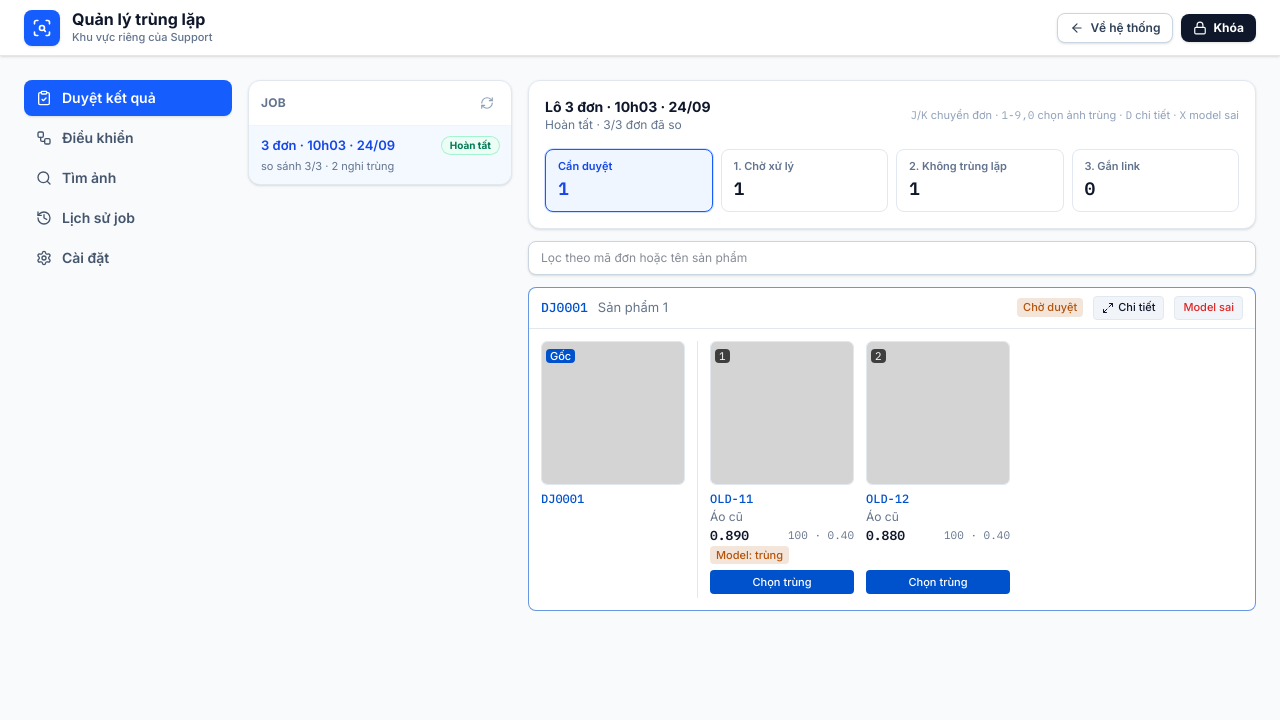
duplicate review page › counts the three groups and switches tabs
Expected: the element with test id "order-DJ0001" is shown, [528,286,1256,611]
Expected: the tab "Cần duyệt 1" is shown, [545,149,712,212]
Step 1. Click the tab "1. Chờ xử lý 1" → (804, 180), box [720,149,888,212]
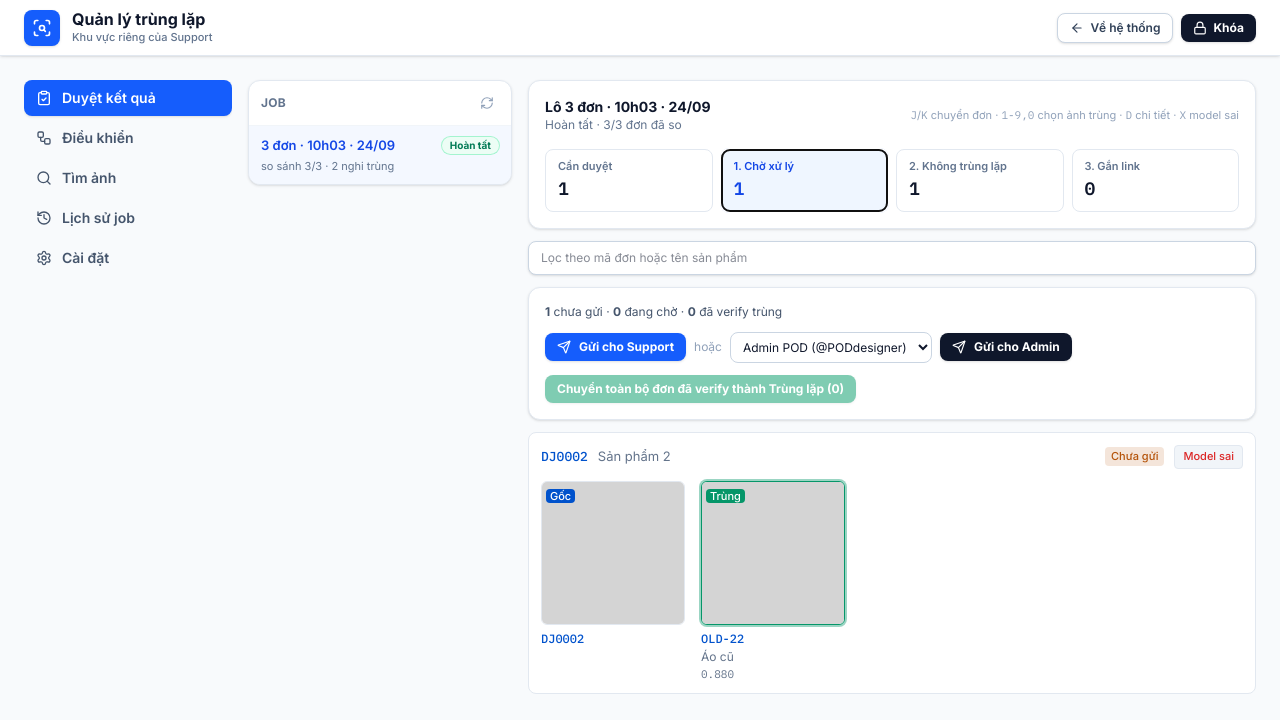
Expected: the element with test id "order-DJ0002" is shown, [528,432,1256,694]
Expected: the element with test id "order-DJ0001" is gone
Step 2. Click the tab "2. Không trùng lặp 1" → (980, 180), box [896,149,1064,212]
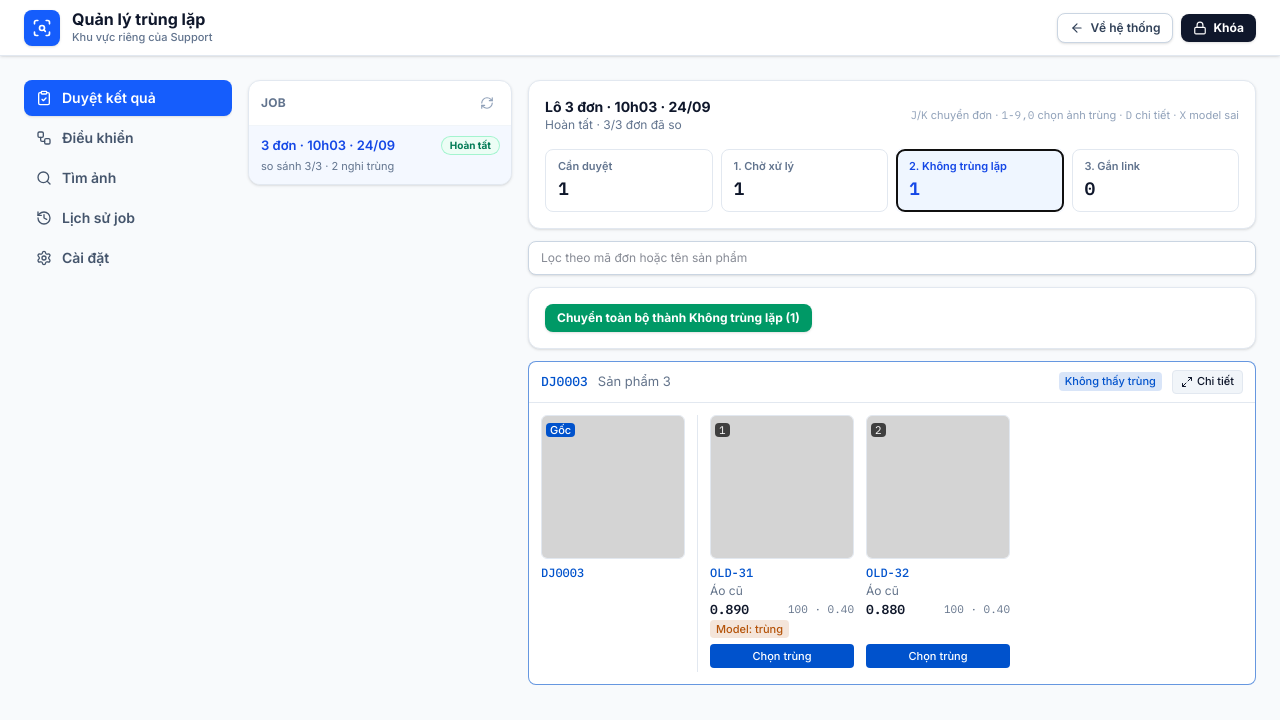
Expected: the element with test id "order-DJ0003" is shown, [528,360,1256,685]
